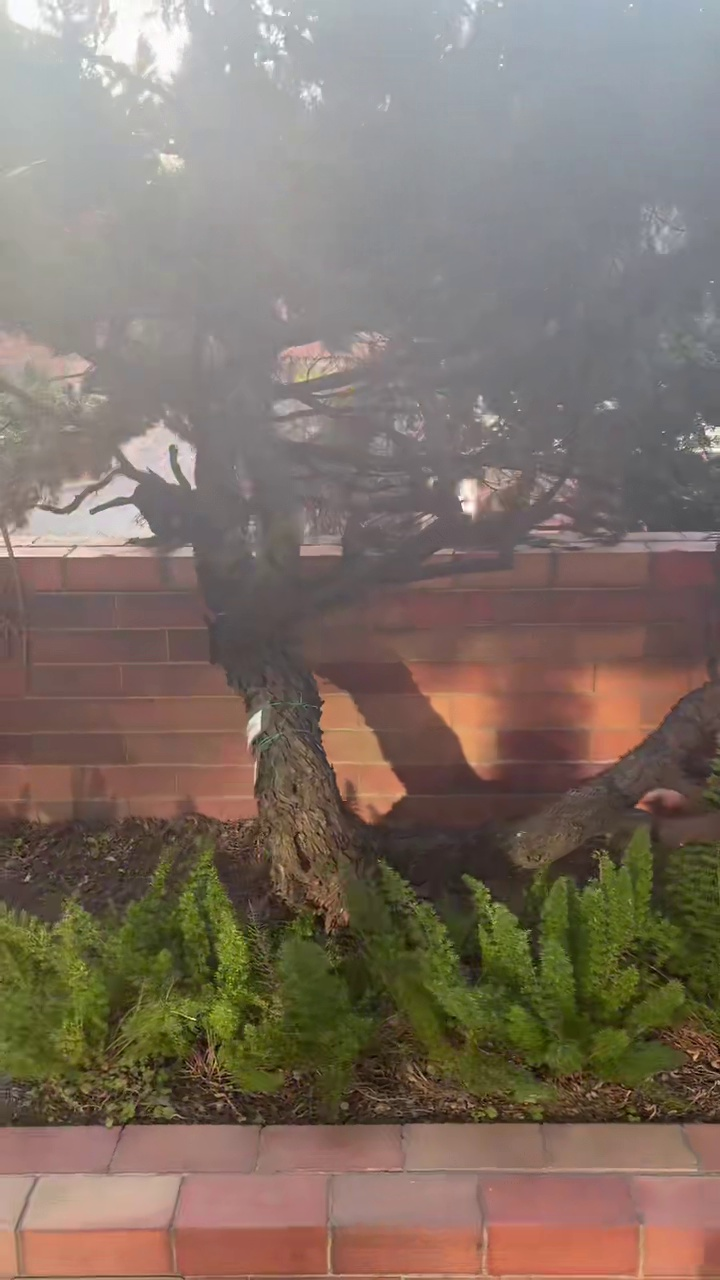Juniperus chinensis: (0, 0, 719, 925)
